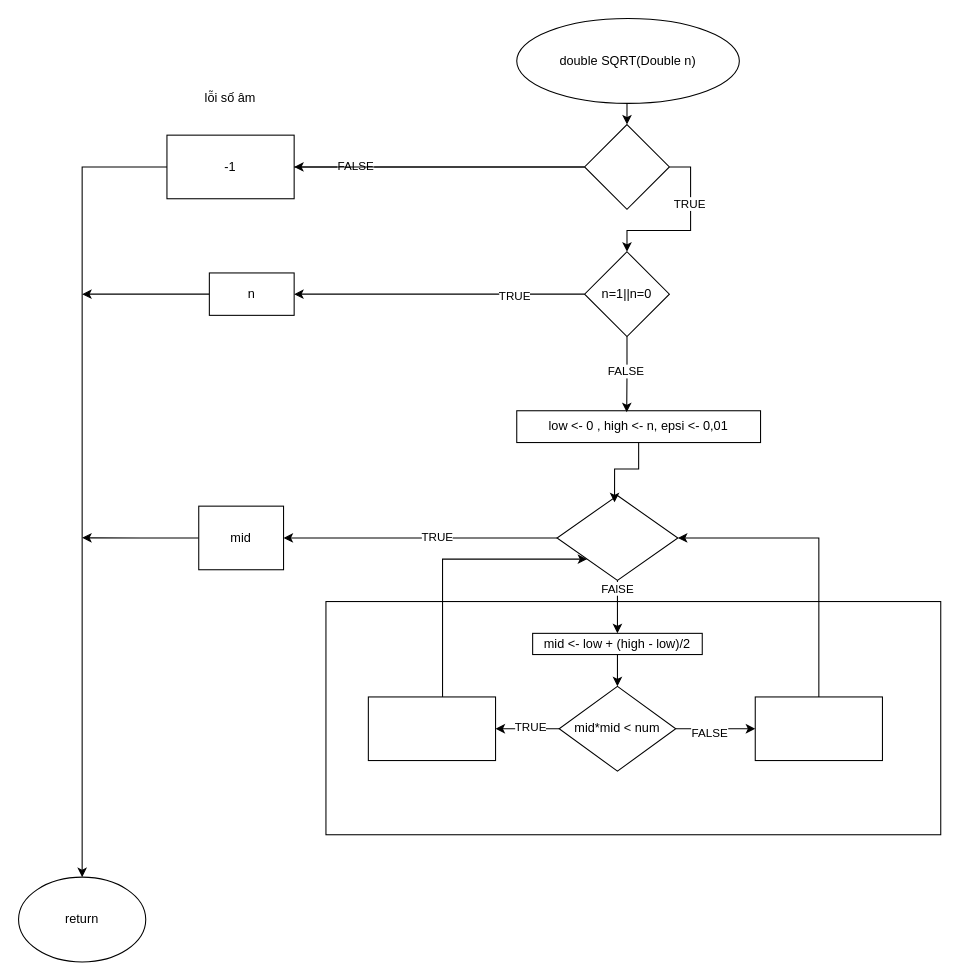
This 959x980 diagram has some shape labels left out. Each missing label, with the box of its shape:
high - low < epsi: (556, 494, 678, 580)
high = mid: (754, 696, 882, 761)
low = mid: (367, 696, 496, 761)
n<0: (584, 123, 669, 209)
